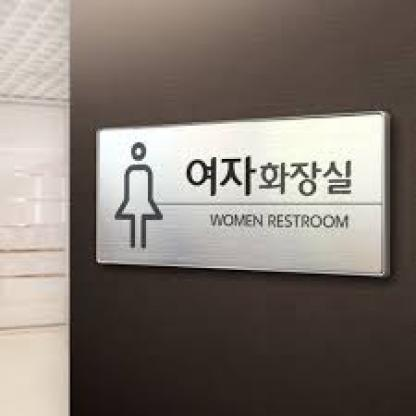toilet: (116, 142, 166, 252)
